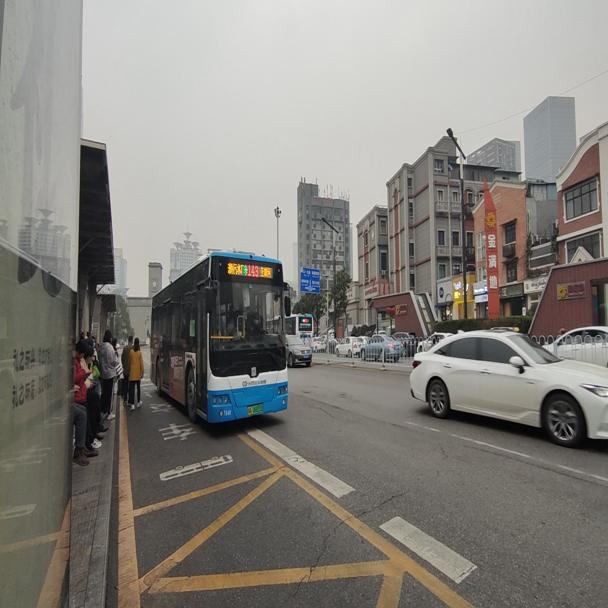bus: (148, 252, 292, 427), (289, 306, 309, 351)
screen: (246, 262, 261, 276)
